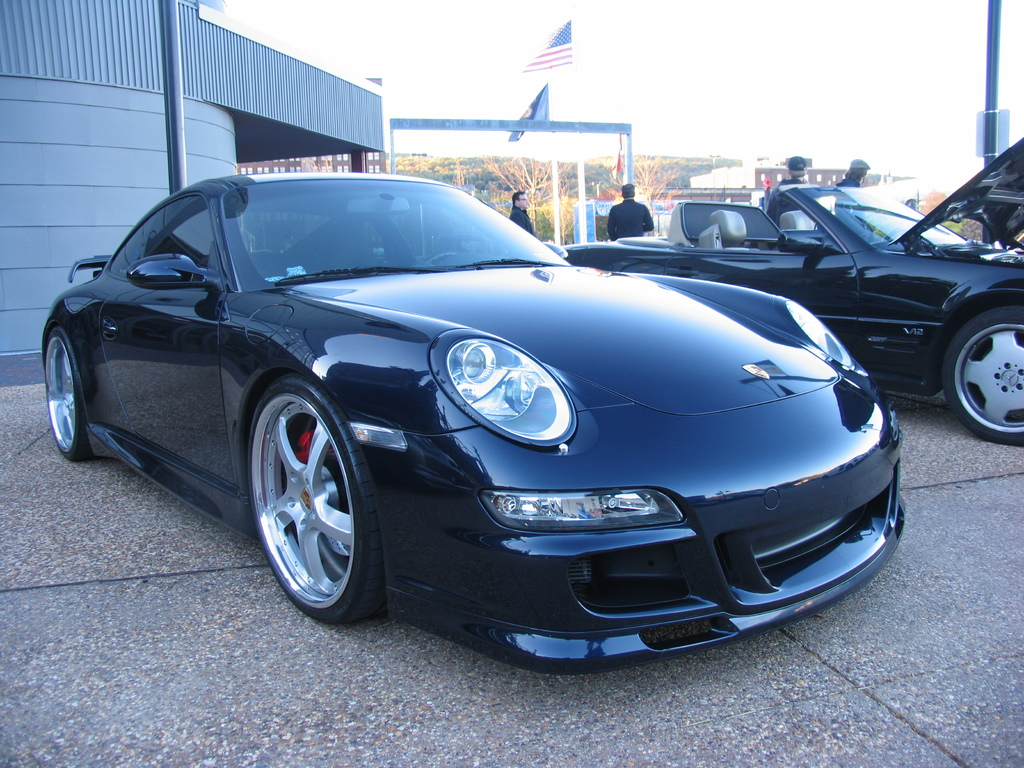Car: (51, 168, 932, 661), (562, 136, 1023, 447)
